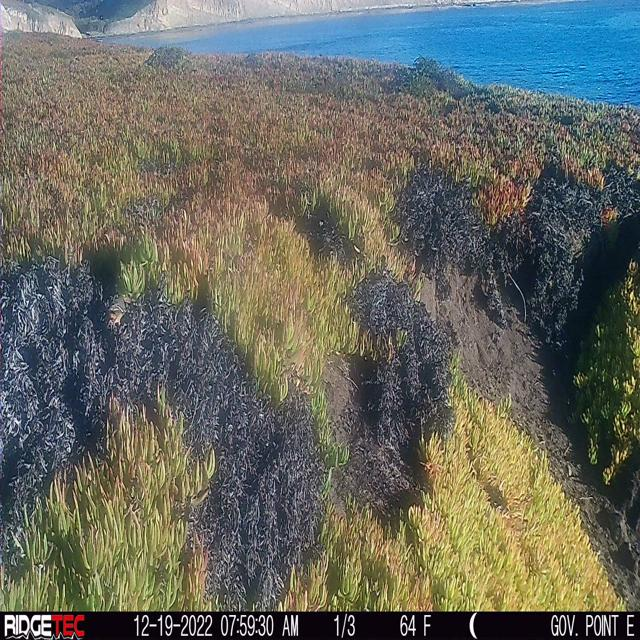bird: (99, 286, 128, 324)
